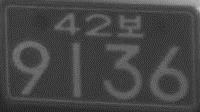1: (61, 41, 93, 98)
2: (83, 12, 112, 37)
3: (103, 42, 142, 100)
4: (53, 11, 81, 37)
6: (148, 44, 188, 103)
9: (11, 39, 50, 96)
보: (116, 14, 144, 38)
